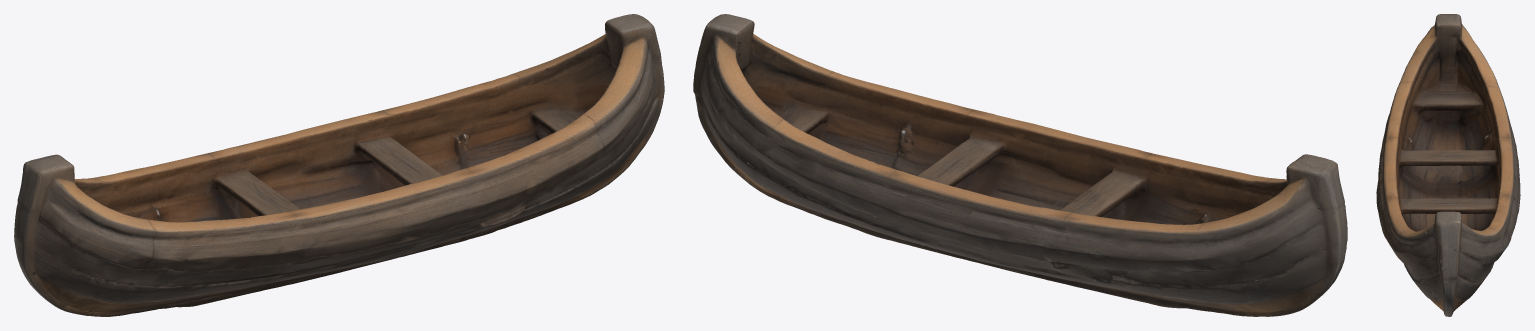
File: boat.glb
The picture shows the model from 3 angles, left to right: view 1: azimuth 30°, elevation 25°; view 2: azimuth 150°, elevation 25°; view 3: azimuth 270°, elevation 25°; orthographic projection. The views are drawn at different scales.
Bounding box in the file's own units: 2 × 0.5398 × 0.5596.
1 material, 1 textured.
